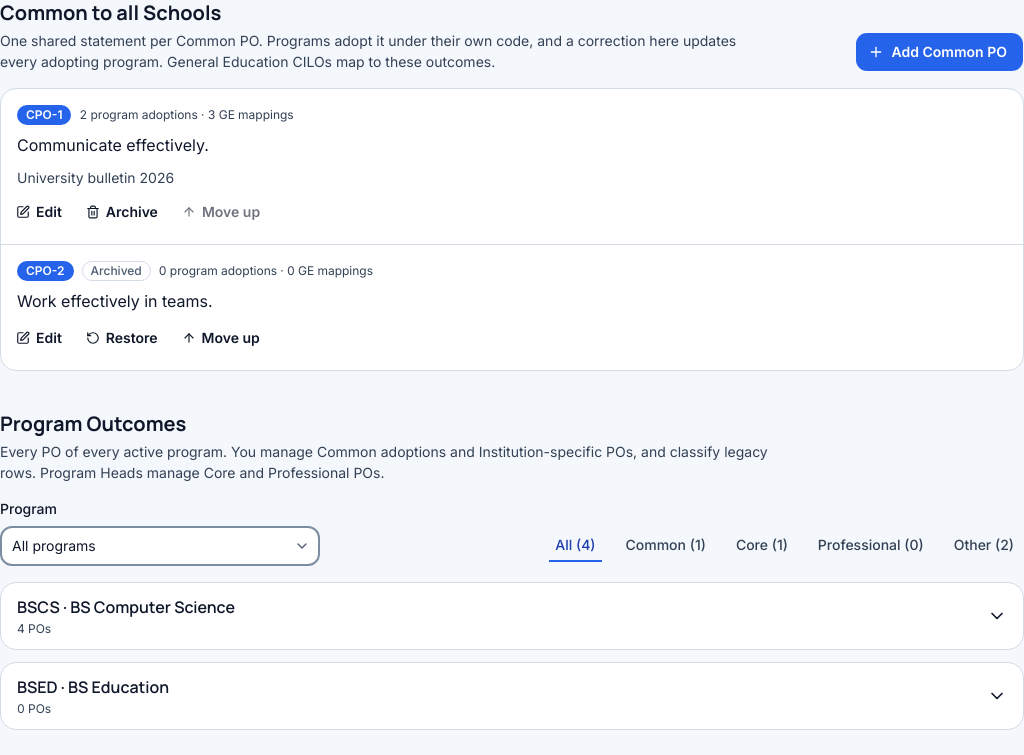
Test: CentralOutcomesCatalog › surfaces a rejected review without offering a confirmation
Step 1. Click the button "Archive" → (125, 212), box [79,196,171,228]
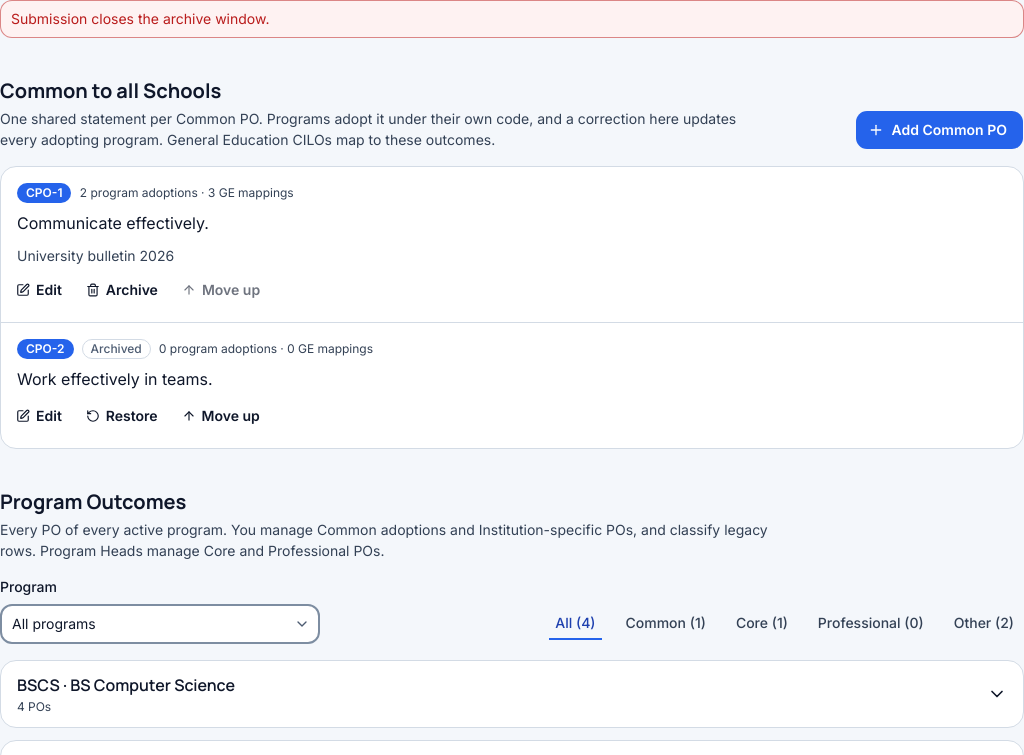
Now the text "Submission closes the archive window." is shown, box [11,10,269,27]
